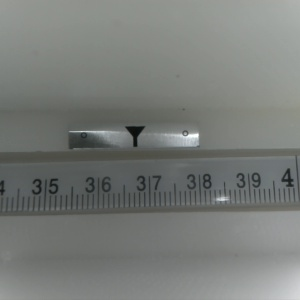3: (135, 175, 146, 191), (31, 179, 42, 195), (84, 177, 94, 193), (201, 173, 211, 189), (235, 173, 245, 188), (186, 174, 196, 189)
4: (281, 168, 295, 187), (0, 180, 5, 196)
5: (48, 179, 58, 194)
6: (100, 176, 110, 192)
7: (151, 175, 161, 190)
9: (251, 173, 261, 188)
finger: (123, 126, 145, 148)
